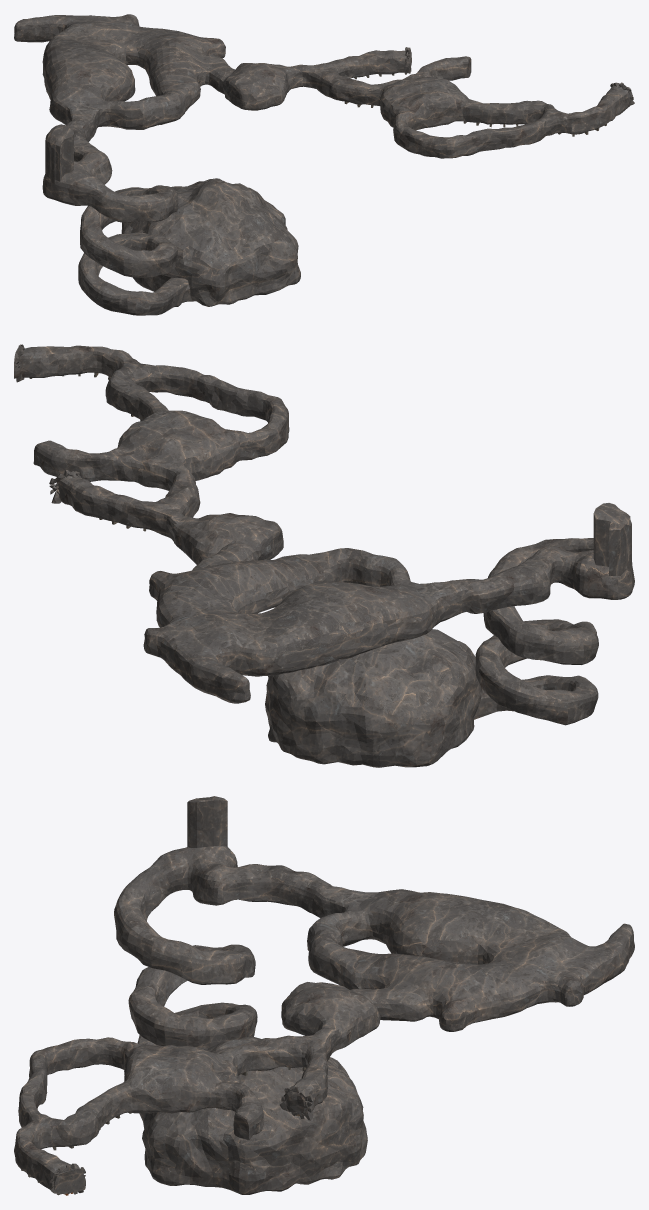
Rendered from level.glb.
3 views of the same model, one above another, from view 1: azimuth 30°, elevation 25°; view 2: azimuth 150°, elevation 25°; view 3: azimuth 270°, elevation 25° (orthographic). The views are drawn at different scales.
Visible parts, largest first — view 1: Cube; view 2: Cube; view 3: Cube.
Boxes of the visible parts, left/top/right/bottom form: Cube: left=14, top=14, right=632, bottom=315; Cube: left=14, top=345, right=634, bottom=767; Cube: left=14, top=796, right=634, bottom=1194.
Size of the model in its own units: 69.7 by 24.61 by 54.72.
Materials: 3 (3 with a texture image).
